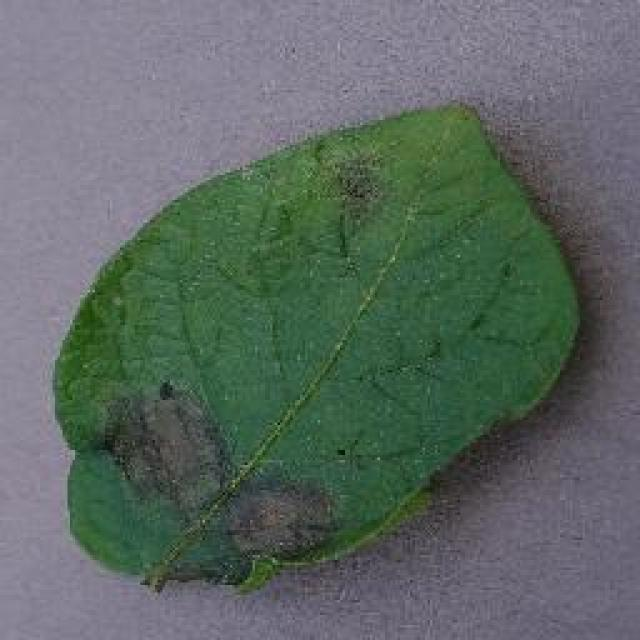late_blight: (47, 95, 585, 597)
